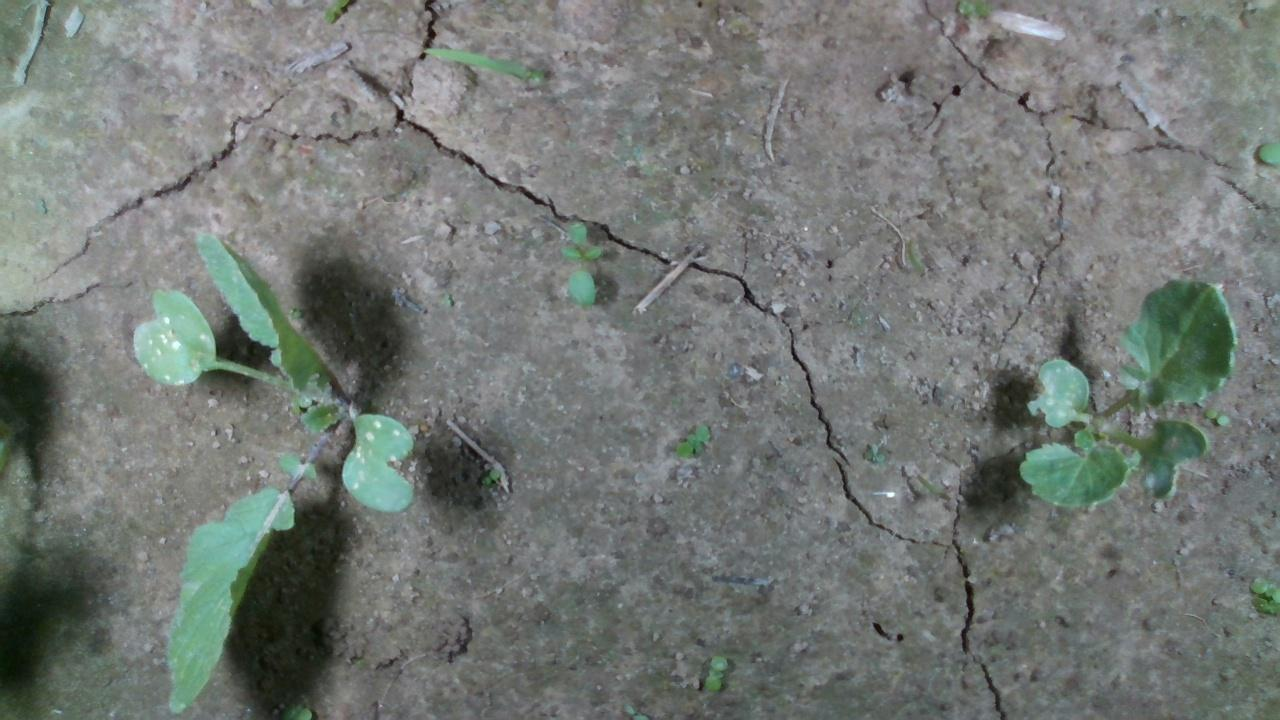weed: (557, 220, 603, 308), (674, 423, 711, 459), (703, 652, 728, 693), (1203, 406, 1230, 427), (479, 468, 500, 485)
